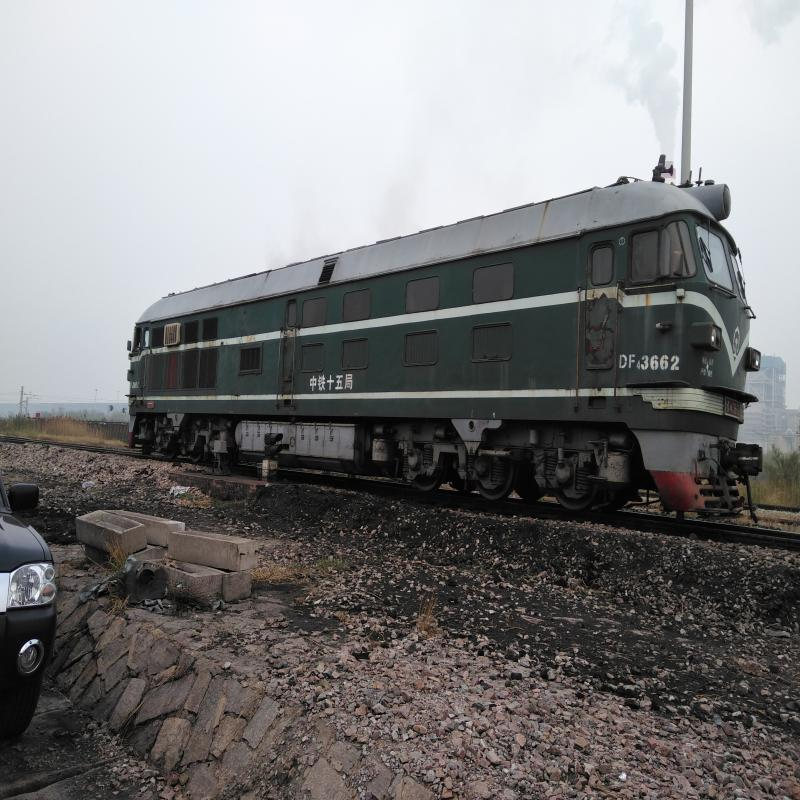train: (132, 225, 761, 454)
